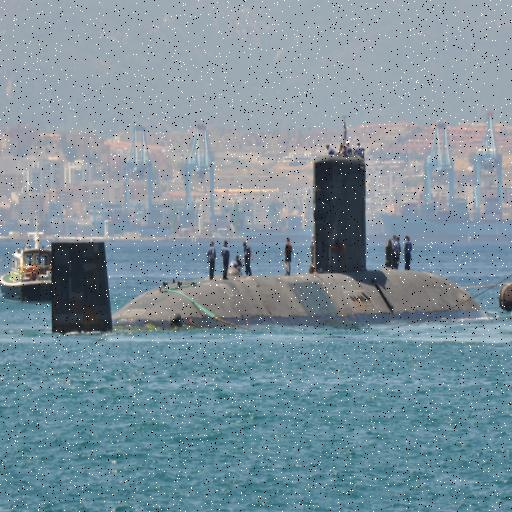submarine: (52, 154, 482, 332)
